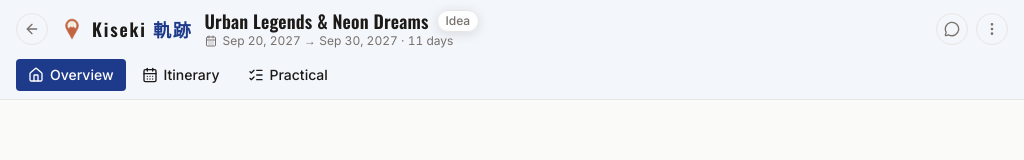
Test: TripLayout › a viewer gets no settings entry point (#248)
The width and height of the screenshot is (1024, 160).
What coordinates should you click on to do the following:
click the button named "Trip actions"
I would click on:
 (992, 29)
Its box is [976, 13, 1008, 45].
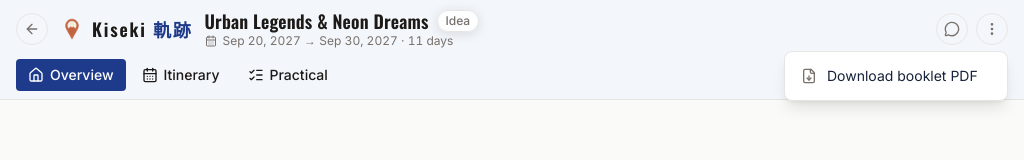
expect the text "Download booklet PDF" is shown: met, box [827, 66, 978, 86]
